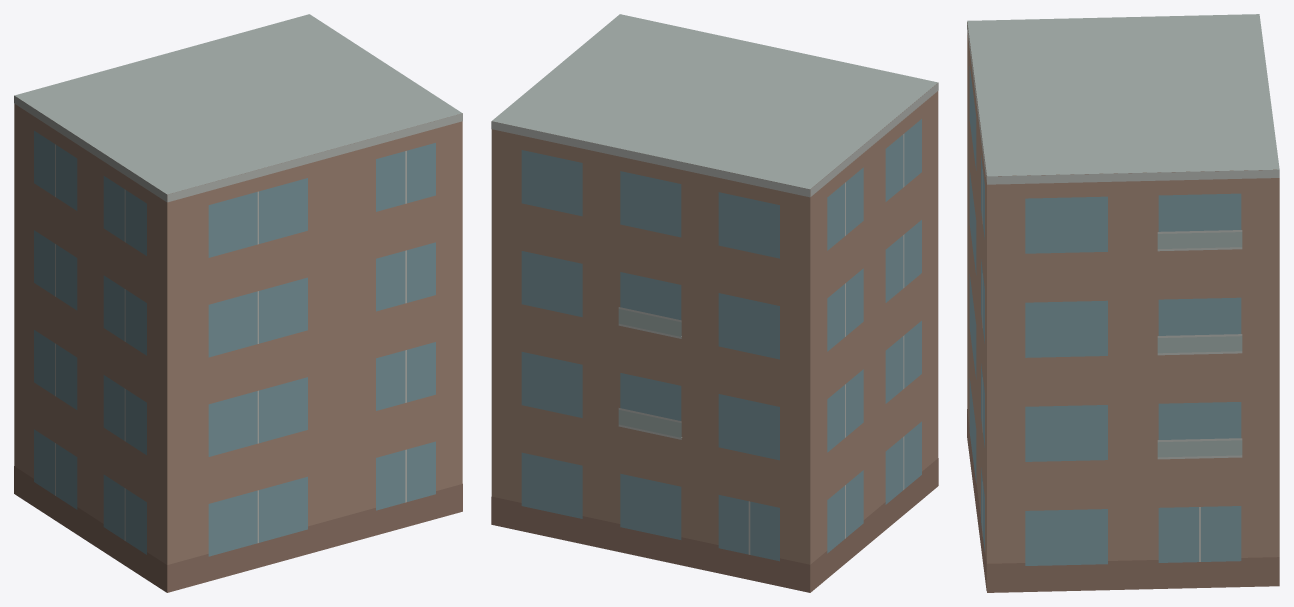
Rendered from residential-27d458b9-2a0e-4637-8870-6d7bc5ccf7db.glb.
The picture shows the model from 3 angles, left to right: view 1: azimuth 30°, elevation 25°; view 2: azimuth 150°, elevation 25°; view 3: azimuth 270°, elevation 25°; orthographic projection. The views are drawn at different scales.
Parts seen in each view (by area): view 1: residential-27d458b9-2a0e-4637-8870-6d7bc5ccf7db.tmp; view 2: residential-27d458b9-2a0e-4637-8870-6d7bc5ccf7db.tmp; view 3: residential-27d458b9-2a0e-4637-8870-6d7bc5ccf7db.tmp.
Part boxes in pixels (box(x1,y1,x2,y2)): residential-27d458b9-2a0e-4637-8870-6d7bc5ccf7db.tmp: box(14, 14, 462, 592); residential-27d458b9-2a0e-4637-8870-6d7bc5ccf7db.tmp: box(491, 14, 938, 592); residential-27d458b9-2a0e-4637-8870-6d7bc5ccf7db.tmp: box(967, 14, 1279, 592).
Bounding box in the file's own units: 10.21 × 12.2 × 8.31.
